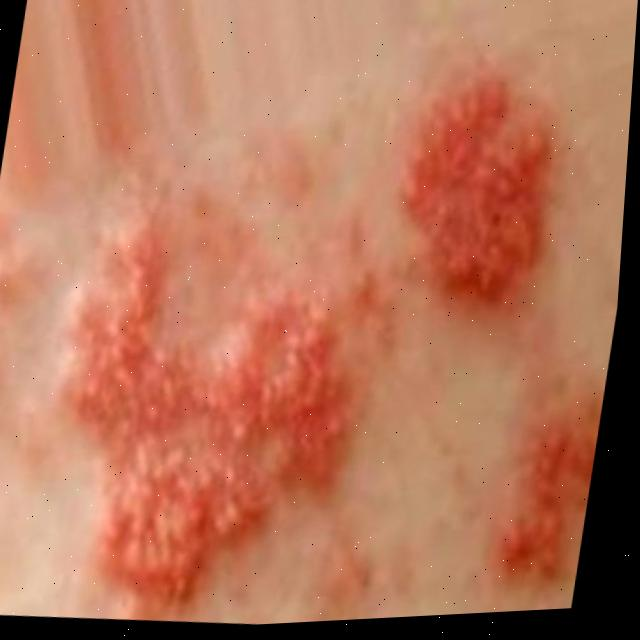Shingles: (51, 246, 342, 610), (397, 83, 558, 302), (507, 386, 604, 592)
